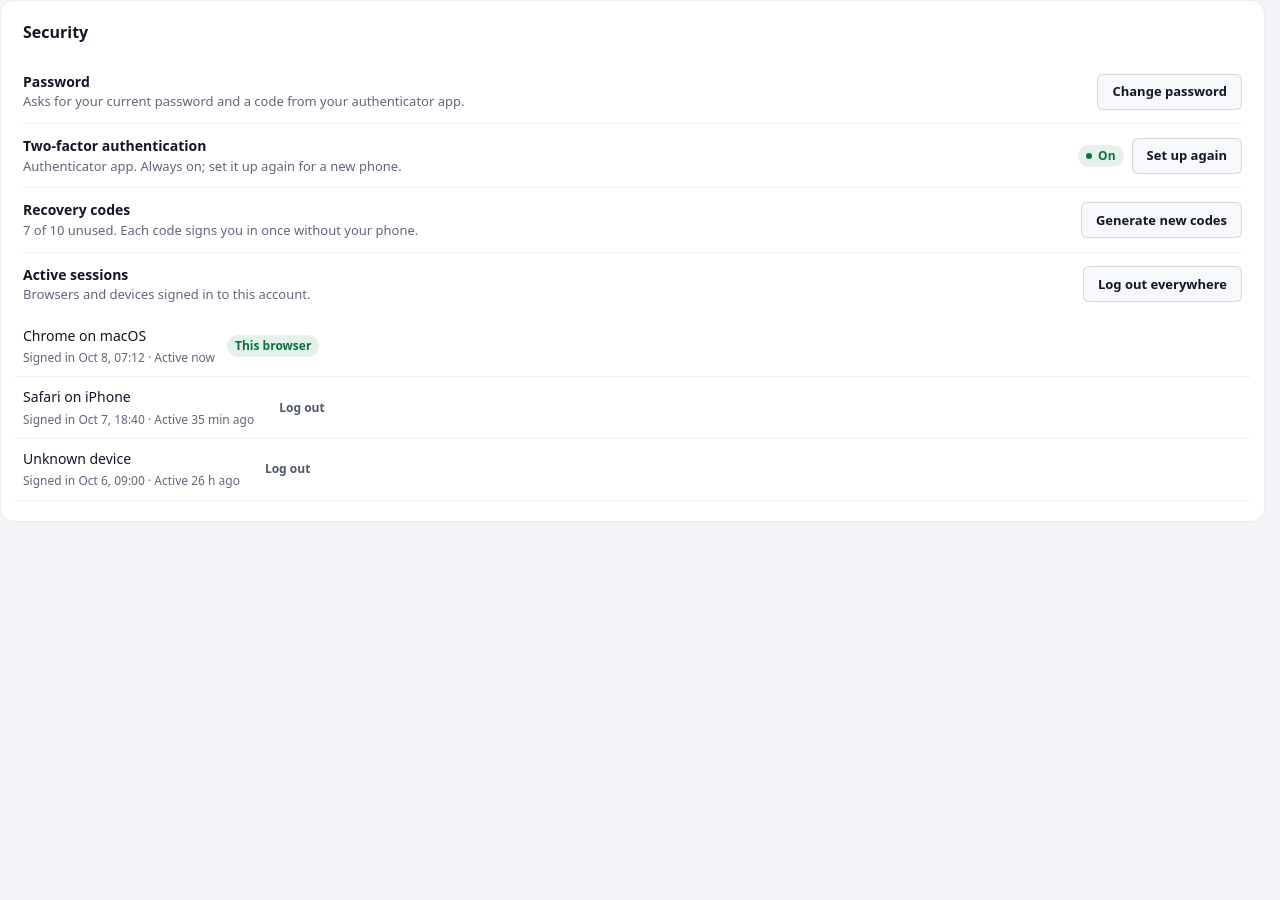
Test: Settings → Security (PR-AUTH-4) › keeps the list when a session cannot be logged out
The image size is (1280, 900).
Click the button with aria-label "Log out Unknown device" at (288, 470), box [252, 454, 323, 486]
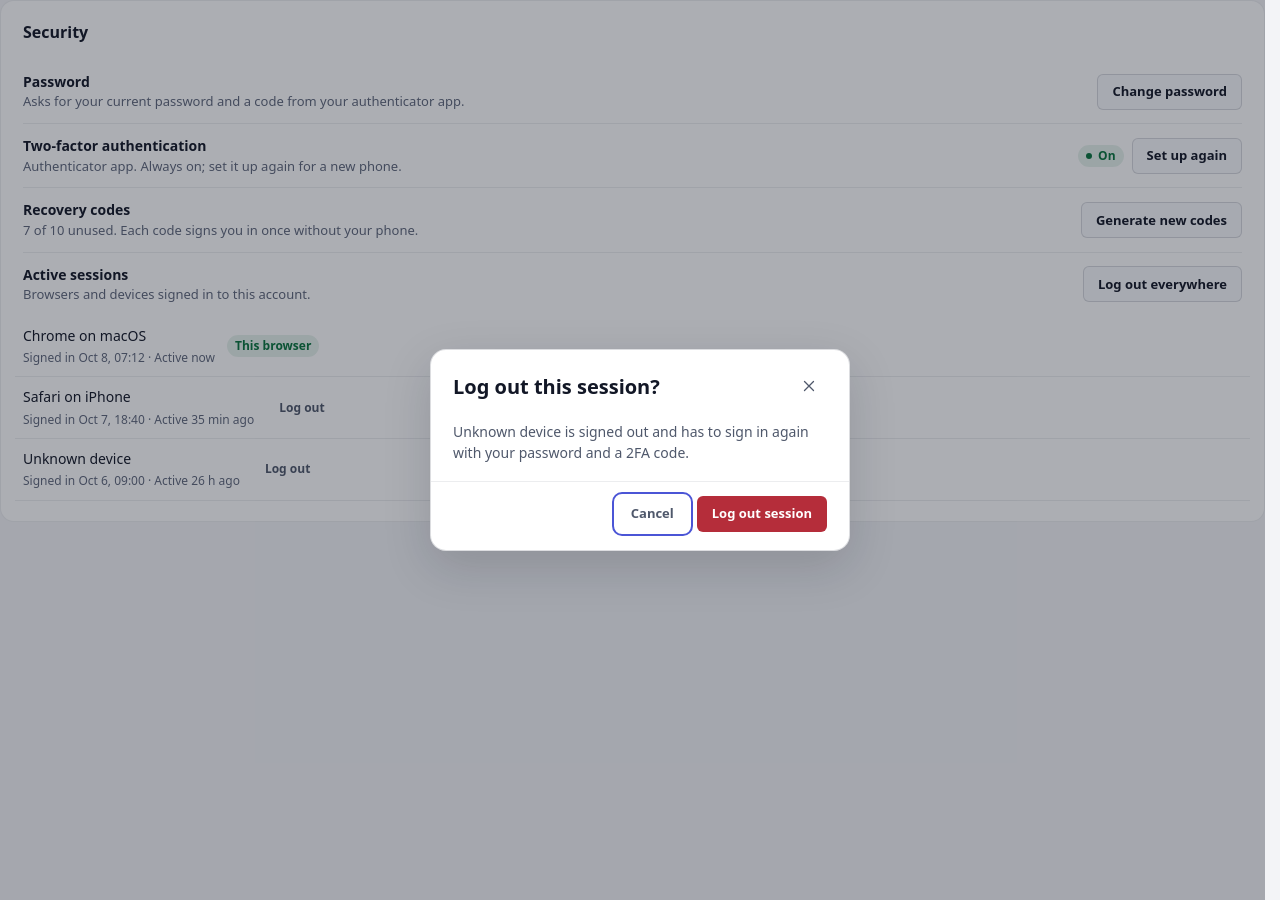
Click the button "Log out session" at (762, 514), box [697, 496, 827, 532]
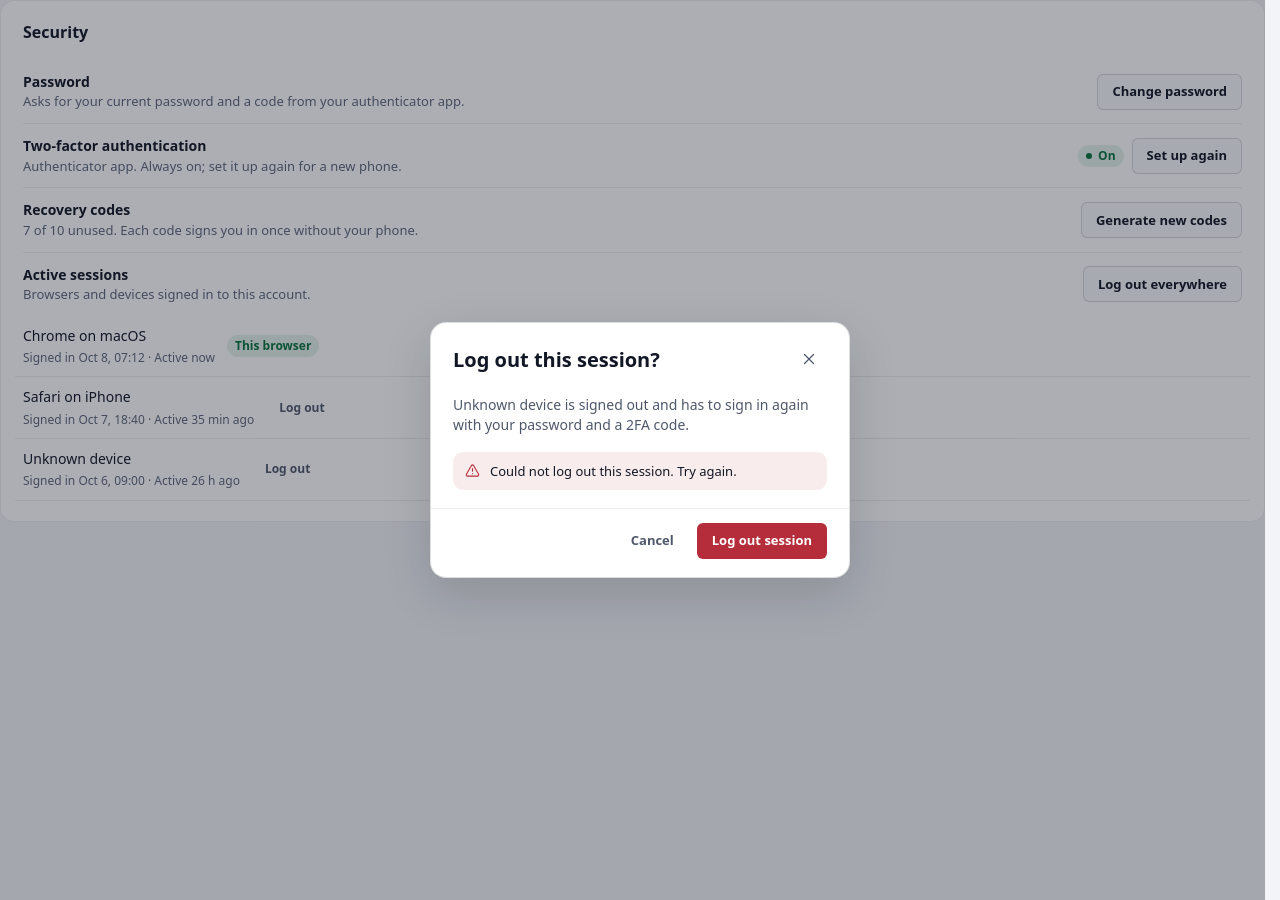
Expected: the text "Unknown device" is shown, [23, 449, 131, 469]
Result: the message reads "Could not log out this session. Try again." at [490, 462, 737, 480]
